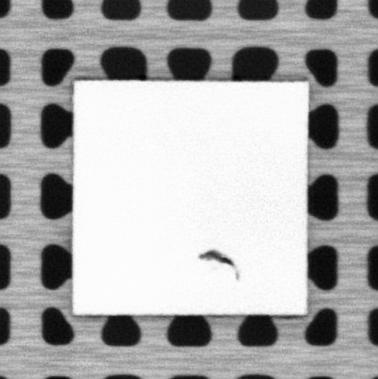DIE_INK: (196, 246, 241, 281)
